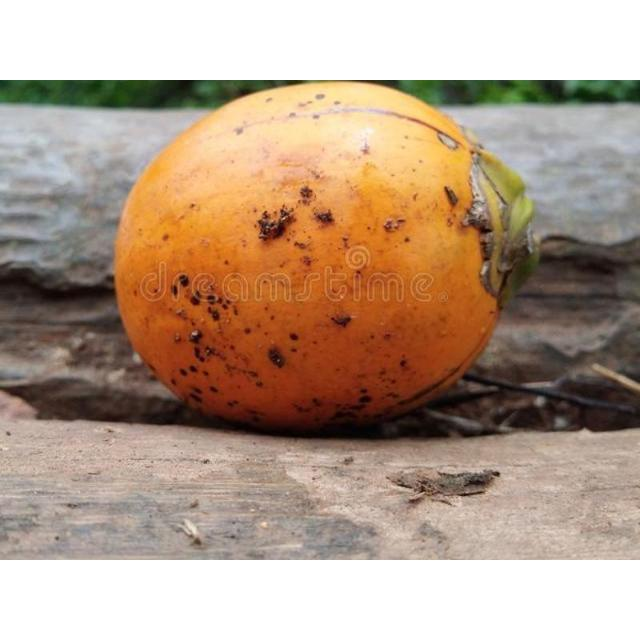good: (111, 82, 538, 438)
